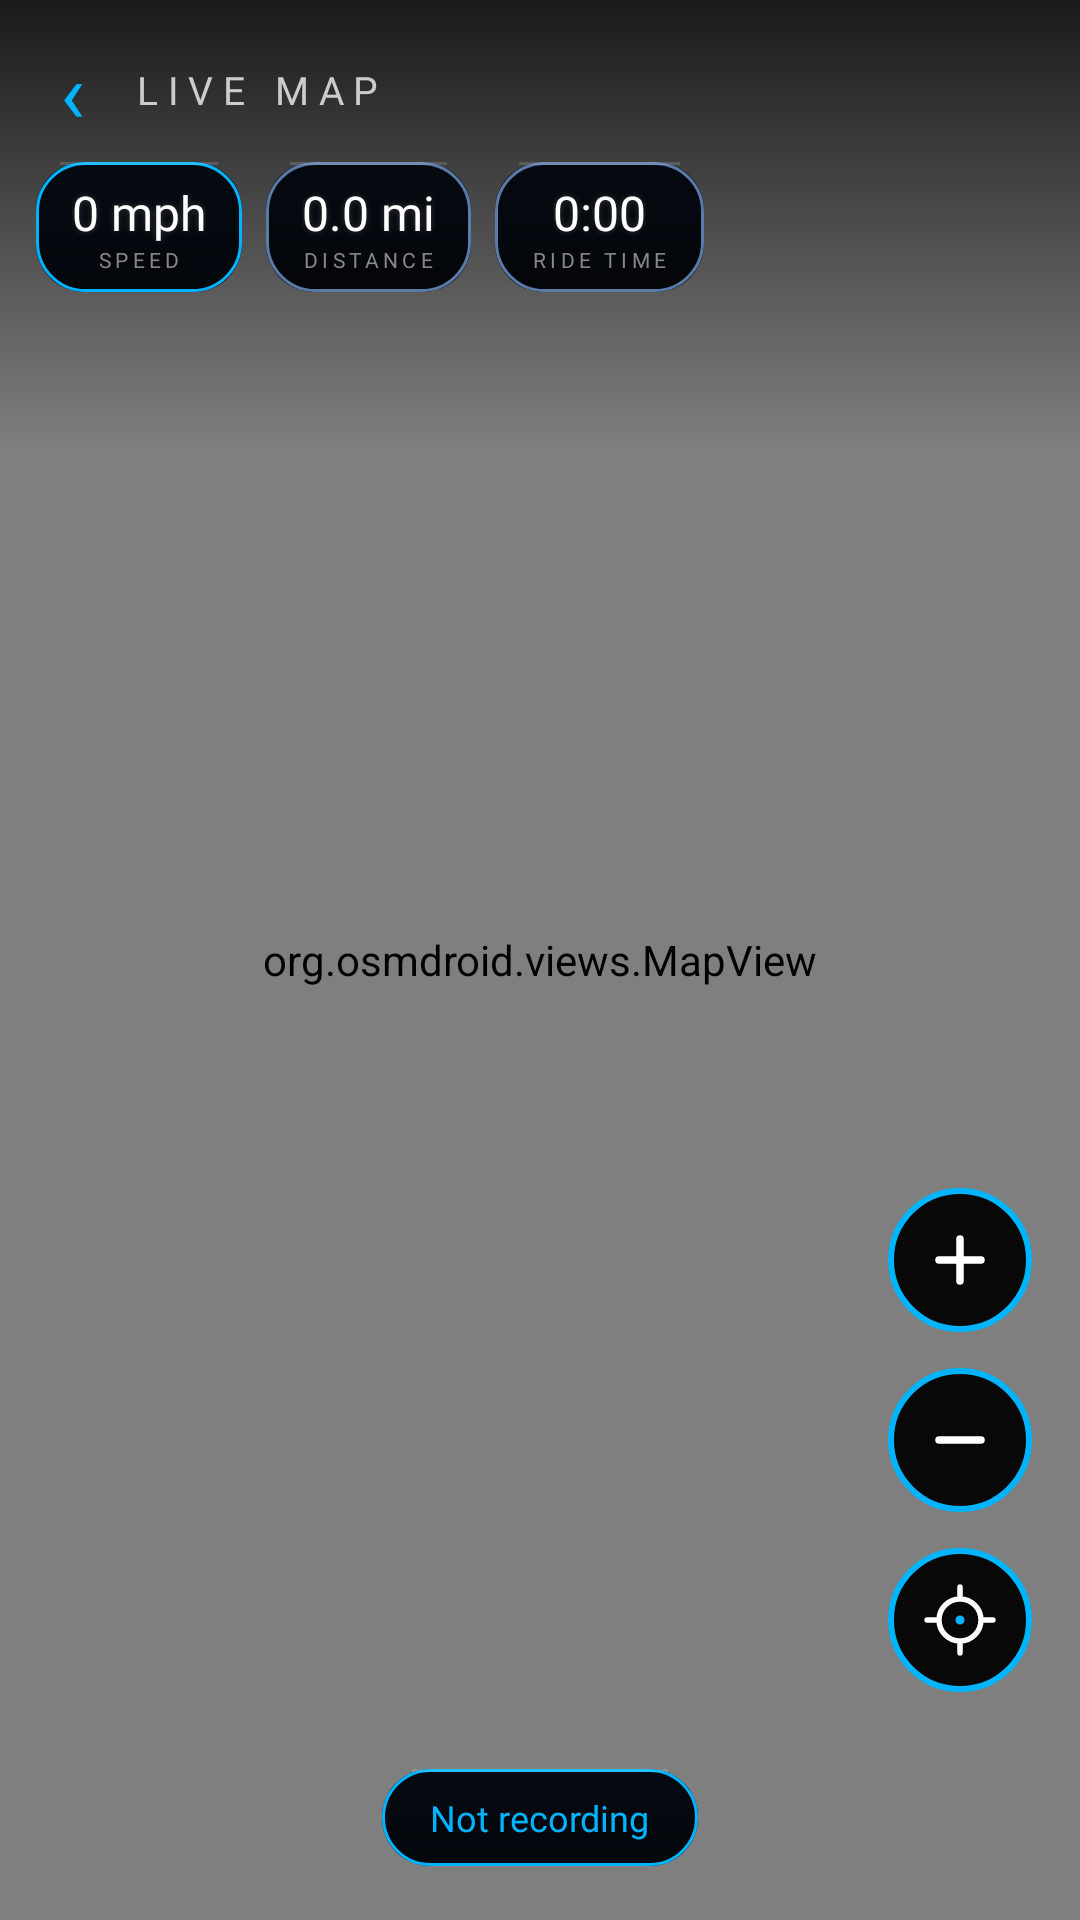

Screen size 1080 x 1920. Icon name, then its center in pixels as point (x, y):
Center map on my location: point (960, 1620)
Zoom in: point (960, 1260)
Zoom out: point (960, 1440)
